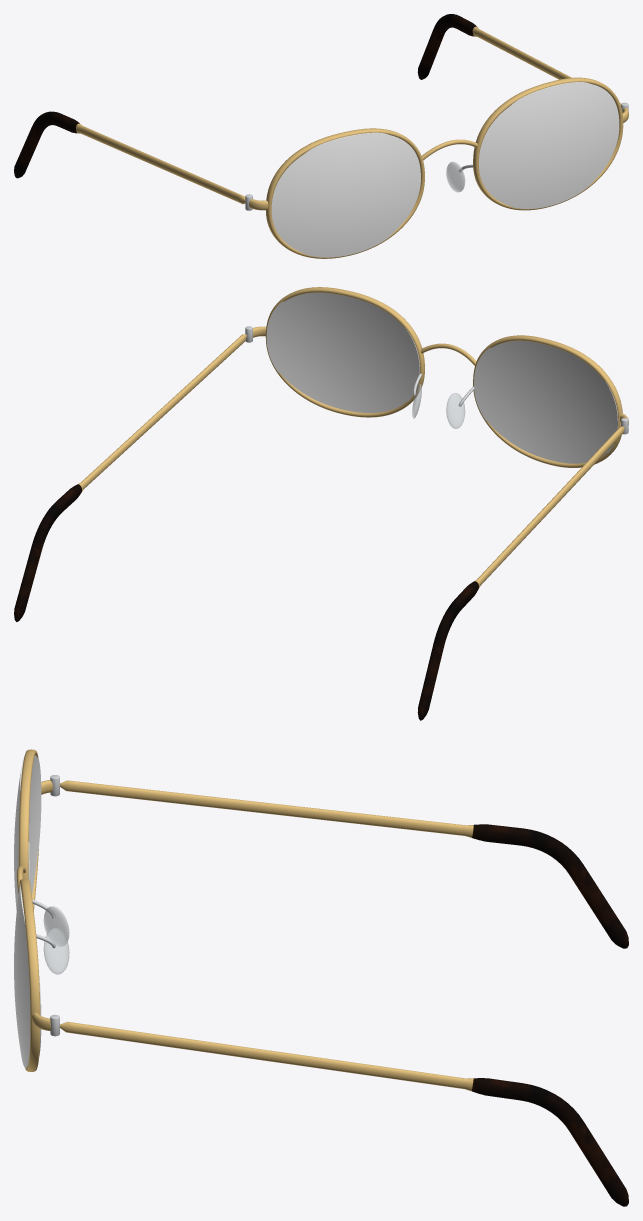
Rendered from ada-s.glb.
3 views of the same model, one above another, from view 1: azimuth 30°, elevation 25°; view 2: azimuth 150°, elevation 25°; view 3: azimuth 270°, elevation 25° (orthographic). The views are drawn at different scales.
Visible parts, largest first — view 1: Lens_R, Lens_L, Front, Temple_R, Temple_L, NosePads; view 2: Lens_L, Lens_R, Front, Temple_L, Temple_R, NosePads; view 3: Temple_L, Temple_R, Front, Lens_L, Lens_R, NosePads.
Boxes of the visible parts, bbox=[...] form: Lens_R: bbox=[271, 132, 420, 257]; Lens_L: bbox=[479, 82, 619, 208]; Front: bbox=[245, 77, 628, 258]; Temple_R: bbox=[14, 111, 245, 204]; Temple_L: bbox=[417, 14, 621, 105]; NosePads: bbox=[446, 161, 465, 192]; Lens_L: bbox=[266, 292, 419, 412]; Lens_R: bbox=[474, 341, 618, 463]; Front: bbox=[245, 287, 628, 467]; Temple_L: bbox=[14, 334, 246, 621]; Temple_R: bbox=[417, 426, 624, 720]; NosePads: bbox=[412, 384, 465, 428]; Temple_L: bbox=[59, 1021, 628, 1206]; Temple_R: bbox=[60, 780, 628, 948]; Front: bbox=[16, 749, 59, 1071]; Lens_L: bbox=[14, 884, 41, 1068]; Lens_R: bbox=[14, 755, 41, 910]; NosePads: bbox=[43, 906, 69, 974].
Bounding box in the file's own units: 0.1322 × 0.0576 × 0.1305.
Materials: 6 (1 with a texture image).
